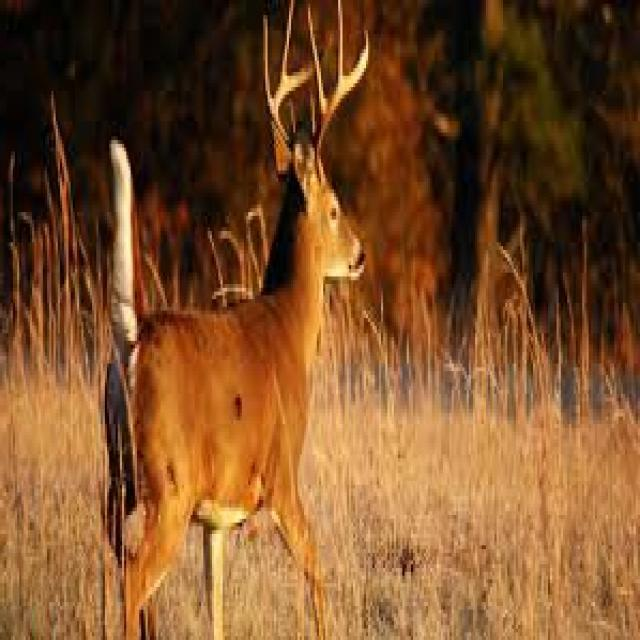deer: (107, 0, 370, 636)
